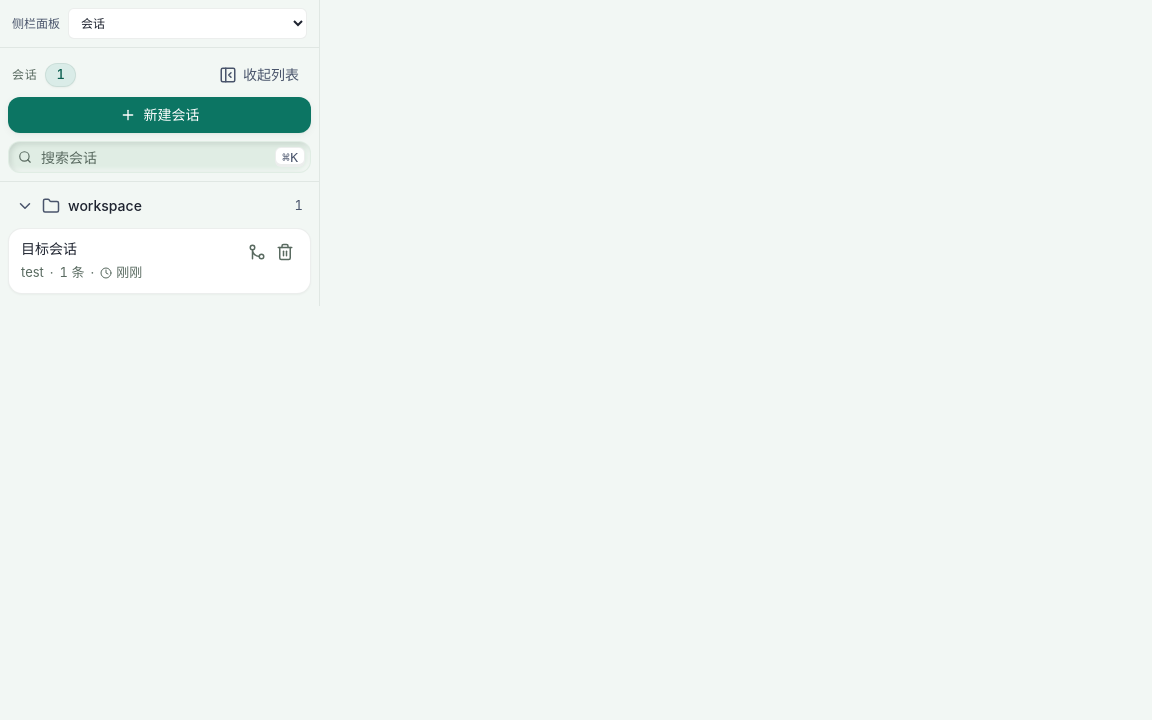
Scenario: 未配置验证码时确认删除直接发出 DELETE（不带验证码头）
Check: the text "目标会话" is shown, box [21,240,77,257]
Click the button named "删除会话": x=285, y=252 [272,239,298,265]
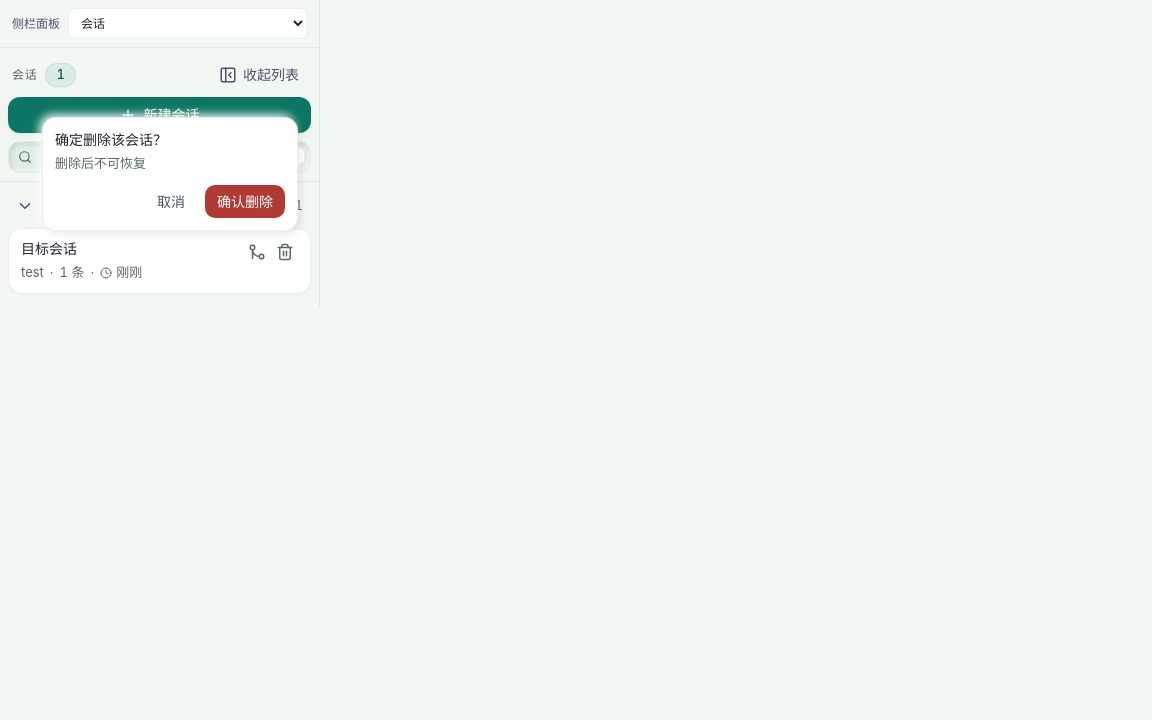
Check: the text "确定删除该会话？" is shown, box [55,130,167,148]
Click the button "确认删除": x=245, y=202 [205,185,285,218]
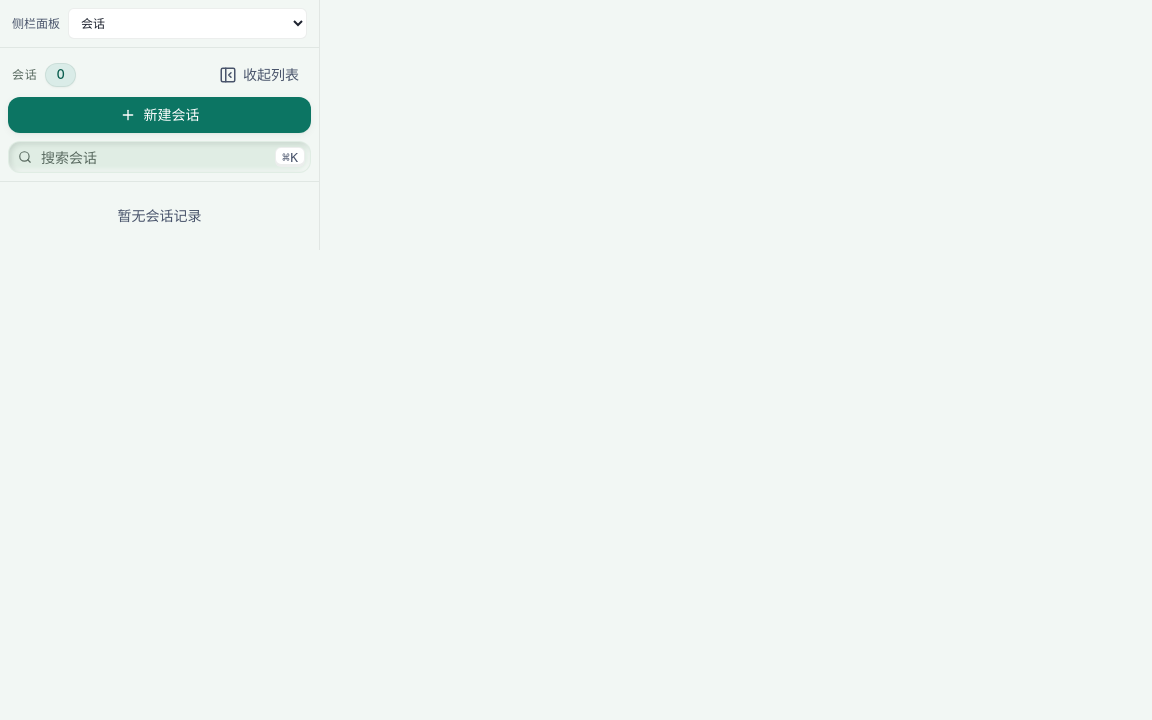
Check: the text "目标会话" is gone
Check: the text "确定删除该会话？" is gone
